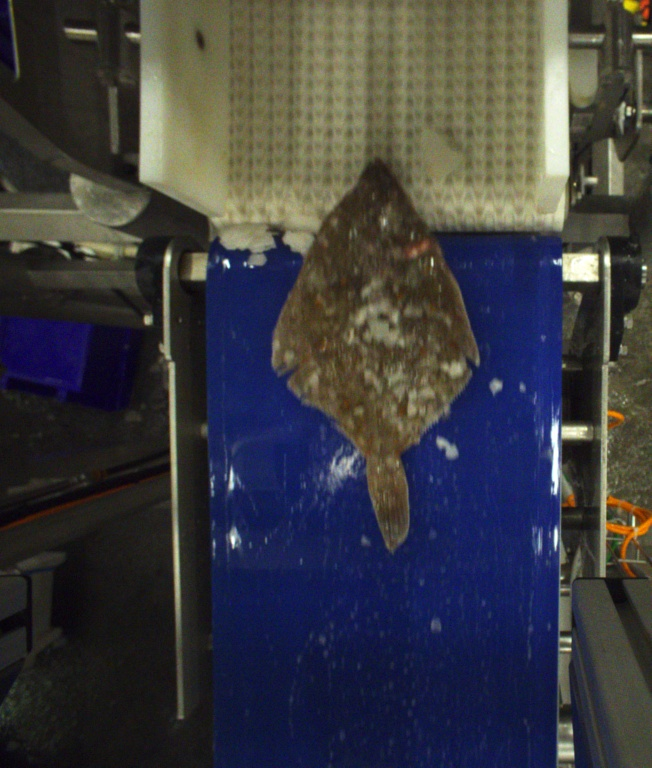PLE: (268, 157, 482, 551)
